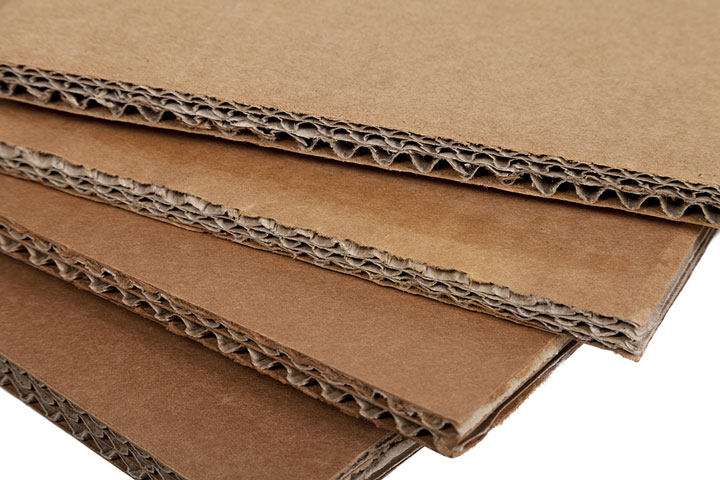Rec_Paper: (9, 1, 708, 472)
